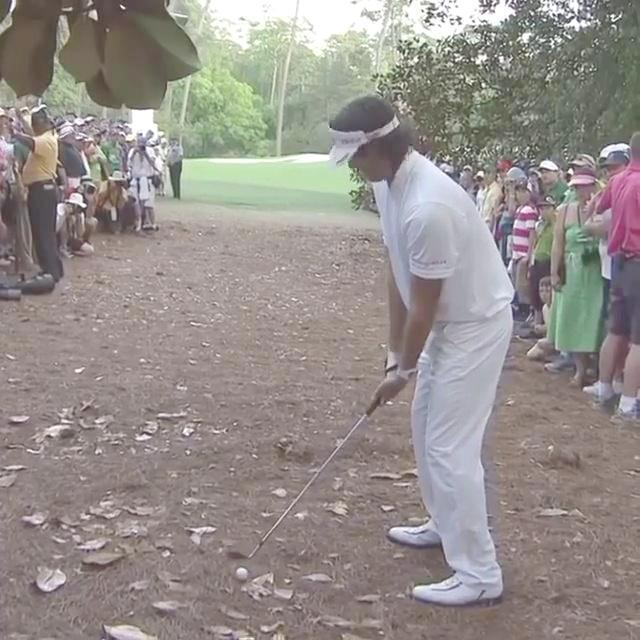ClubHead: (227, 551, 249, 561)
GolfBall: (236, 568, 250, 582)
